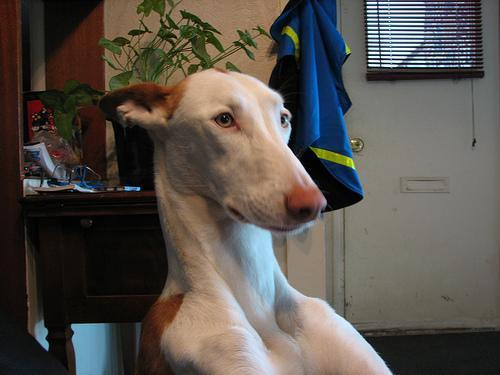Ibizan_hound: (96, 65, 393, 374)
